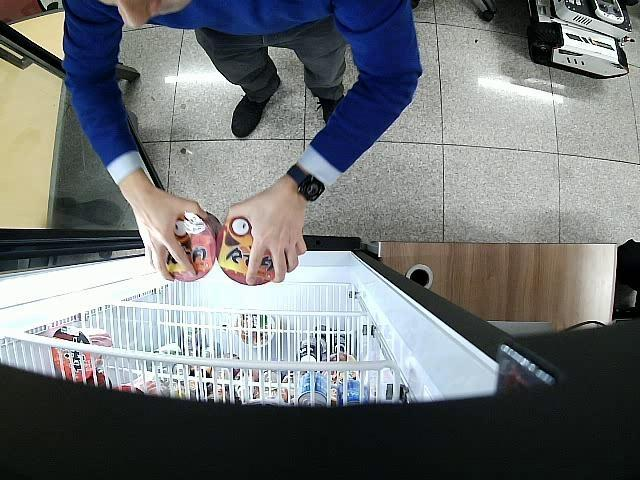05_nuguri_L: (217, 216, 276, 286), (166, 211, 222, 282)
